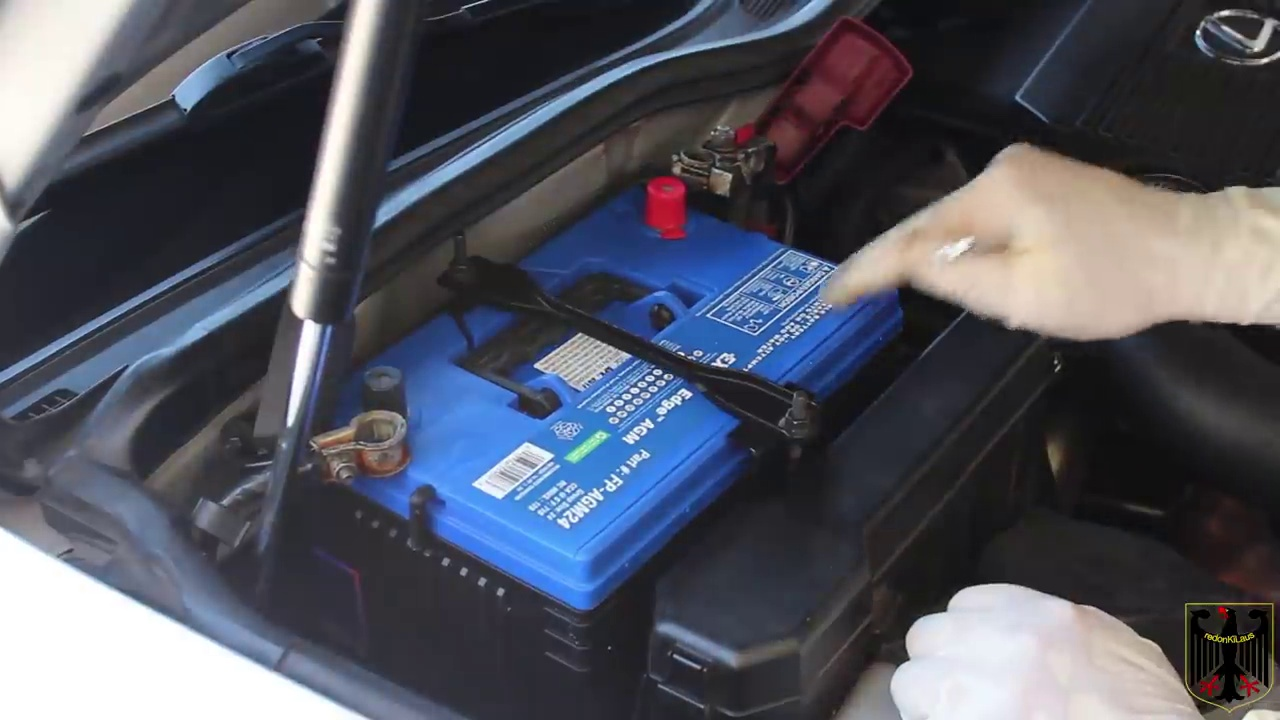battery: (290, 168, 888, 565)
pos_disconnected: (624, 69, 891, 246)
